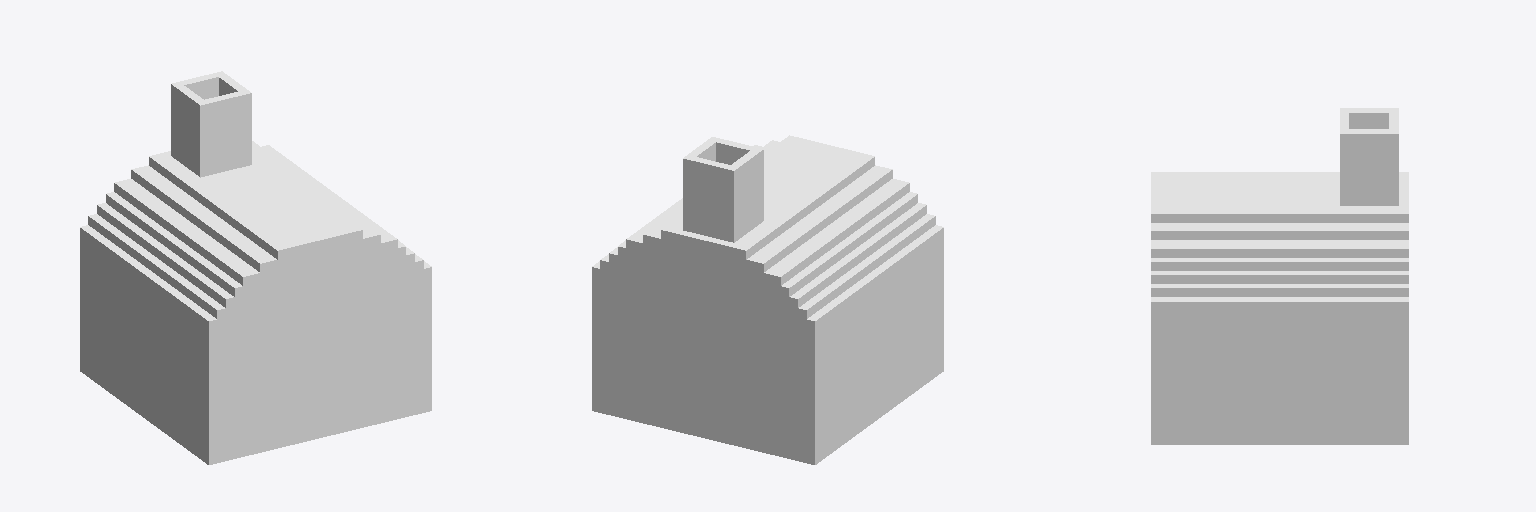
Rendered from Obstacle_2x2_1.obj.
The picture shows the model from 3 angles: view 1: azimuth 30°, elevation 25°; view 2: azimuth 150°, elevation 25°; view 3: azimuth 270°, elevation 25°; orthographic projection.
Visible parts, largest first — view 1: object 1; view 2: object 1; view 3: object 1.
Part boxes in pixels (x1,y1,x2,y2): object 1: (80,71,431,464); object 1: (592,135,943,464); object 1: (1151,108,1408,444).
Size of the model in its own units: 2.6 by 3 by 2.6.